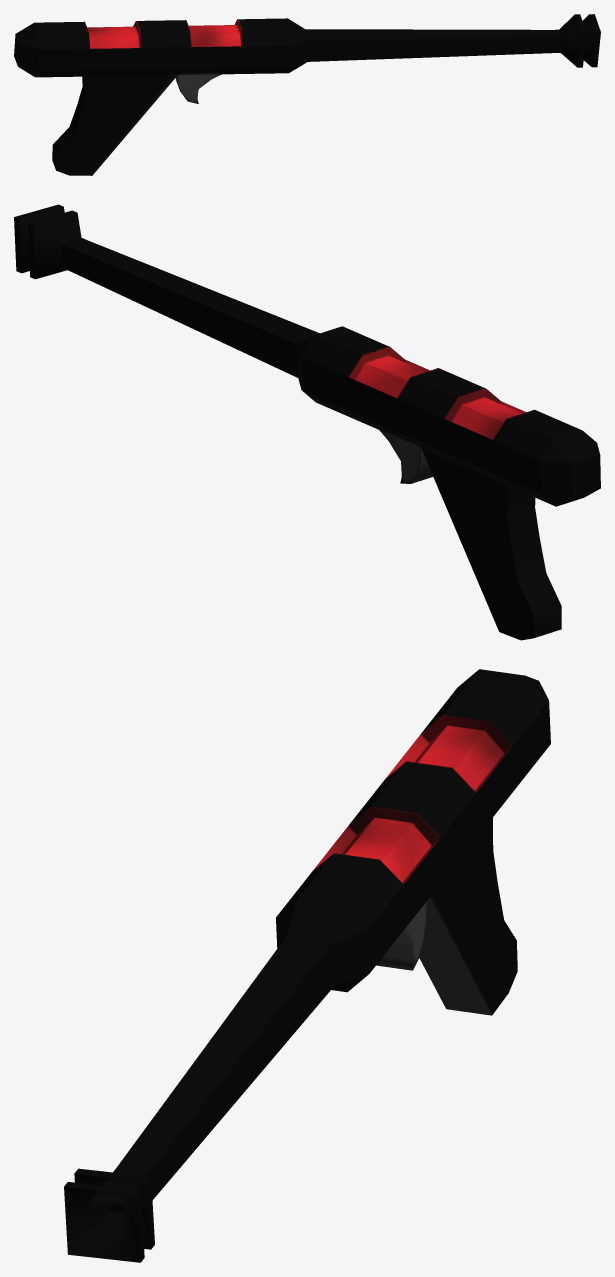
Rendered from Oblaster.fbx.
3 views of the same model, one above another, from view 1: azimuth 30°, elevation 25°; view 2: azimuth 150°, elevation 25°; view 3: azimuth 270°, elevation 25° (orthographic). The views are drawn at different scales.
Visible parts, largest first — view 1: node_id6; view 2: node_id6; view 3: node_id6.
Boxes of the visible parts, x1,y1,x2,y2 form: node_id6: [14, 14, 600, 175]; node_id6: [14, 204, 600, 640]; node_id6: [64, 669, 550, 1262].
Size of the model in its own units: 0.8056 by 0.234 by 0.3487.
1 material, 1 textured.
